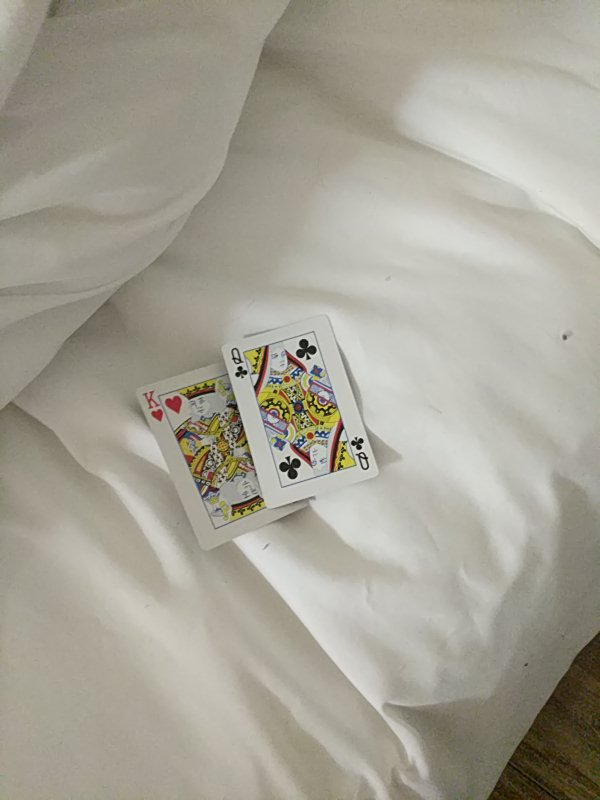Clubs: (139, 362, 311, 543), (219, 315, 378, 501)
